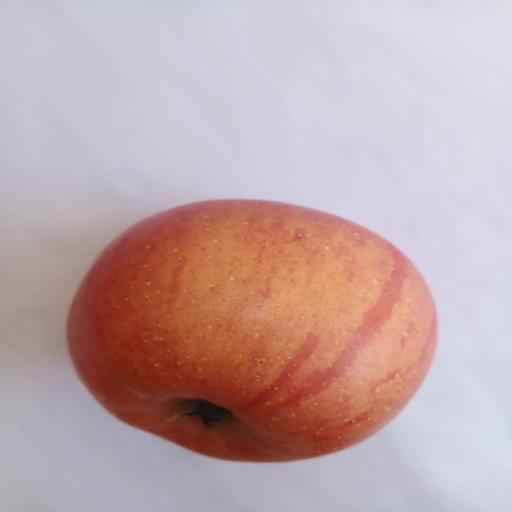apple-ripe: (51, 190, 444, 472)
